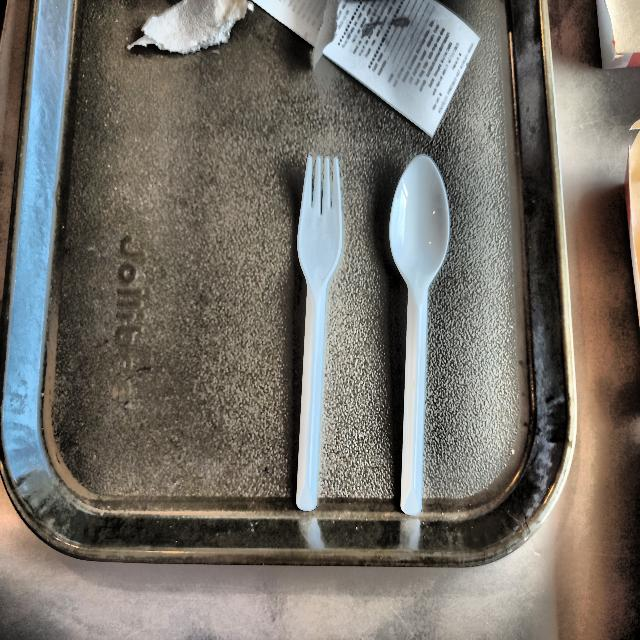plastic utensil: (296, 155, 342, 510)
